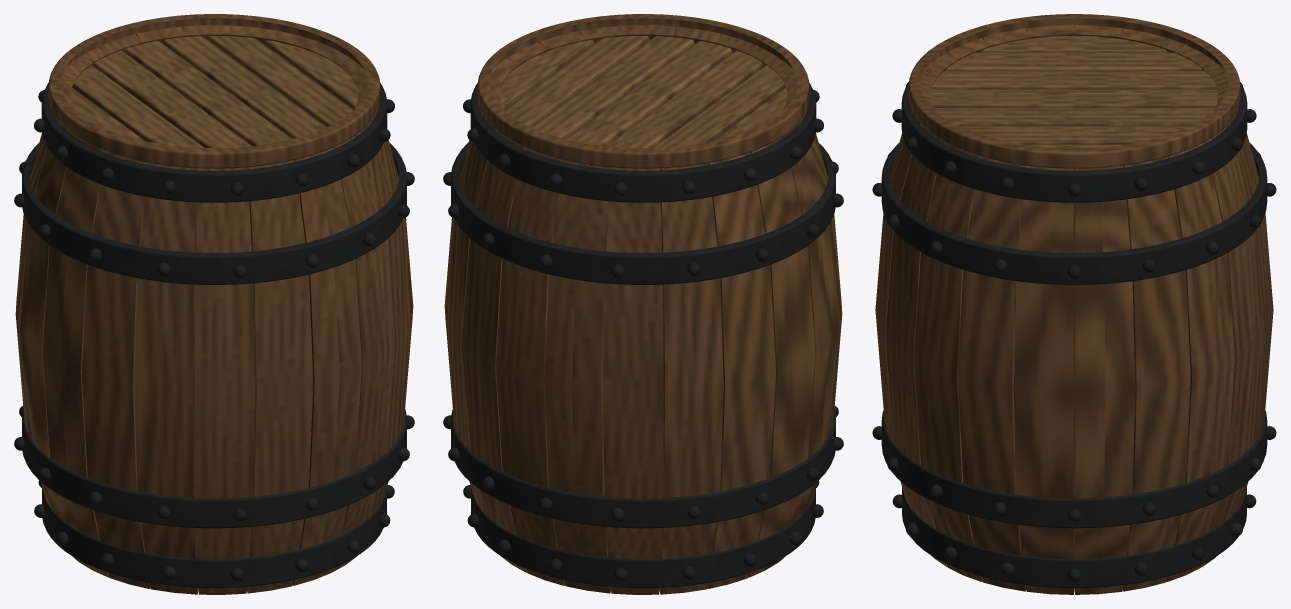
File: tavern-barrel.glb
3 renders of one model, left to right at view 1: azimuth 30°, elevation 25°; view 2: azimuth 150°, elevation 25°; view 3: azimuth 270°, elevation 25°, orthographic.
Visible parts, largest first — view 1: Barrel | individual oak stave 00; view 2: Barrel | individual oak stave 00; view 3: Barrel | individual oak stave 00.
Boxes of the visible parts, x1,y1,x2,y2 form: Barrel | individual oak stave 00: (14, 14, 414, 594); Barrel | individual oak stave 00: (443, 14, 843, 594); Barrel | individual oak stave 00: (872, 14, 1276, 594).
Bounding box in the file's own units: 1.34 × 1.63 × 1.34.
Materials: 1 (1 with a texture image).
